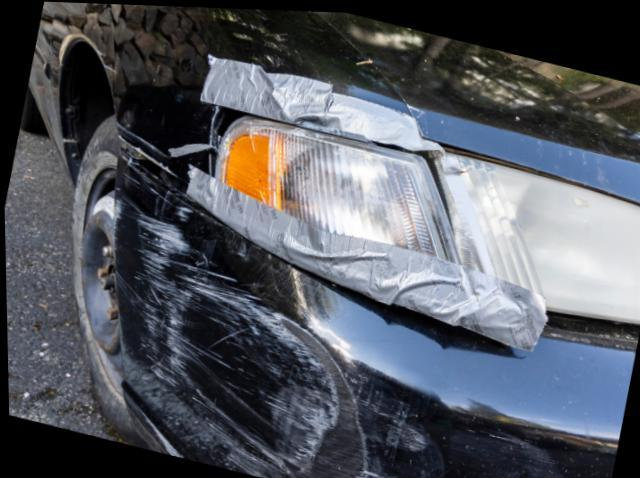scratch: (135, 208, 569, 478)
